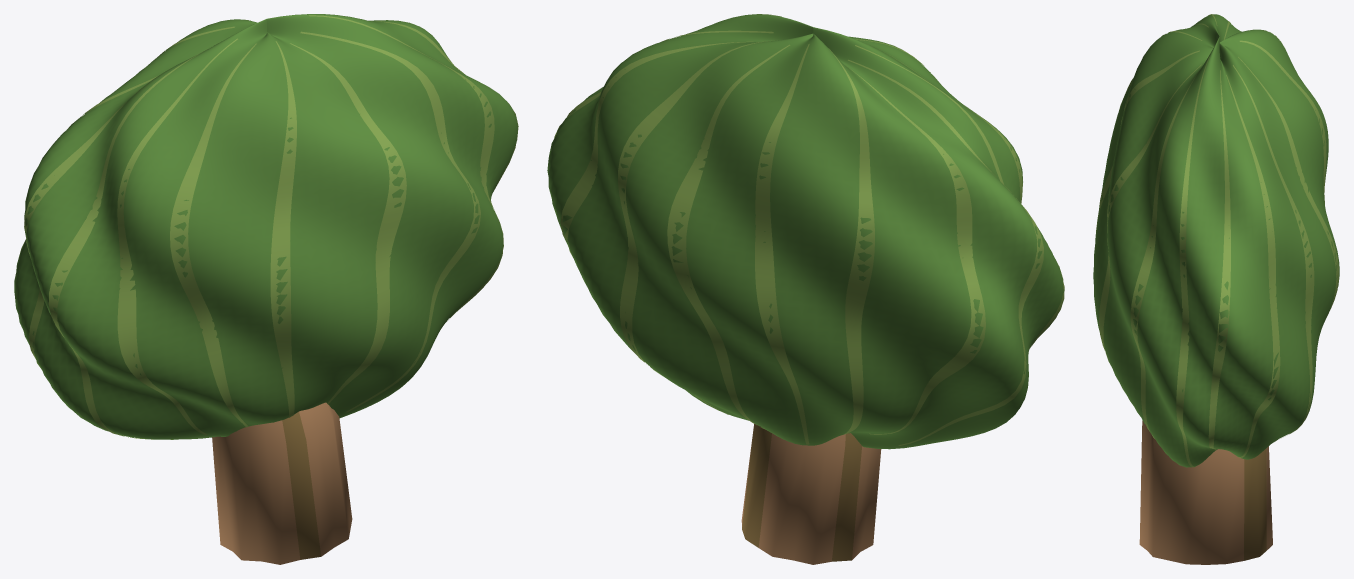
The model's file is 02_g18686_1_striped_tree.glb.
3 renders of one model, left to right at view 1: azimuth 30°, elevation 25°; view 2: azimuth 150°, elevation 25°; view 3: azimuth 270°, elevation 25°, orthographic. The views are drawn at different scales.
Visible parts, largest first — view 1: Broad green canopy, Tapered short patterned trunk, Long olive canopy marking.011, Long olive canopy marking.010, Long olive canopy marking.012, Long olive canopy marking.009, Long olive canopy marking.008, Long olive canopy marking.013, Long olive canopy marking.007, Long olive canopy marking.014; view 2: Broad green canopy, Tapered short patterned trunk, Long olive canopy marking.004, Long olive canopy marking.005, Long olive canopy marking.003, Long olive canopy marking.006, Long olive canopy marking.002, Long olive canopy marking.001, Long olive canopy marking.007, Long olive canopy marking.008; view 3: Broad green canopy, Tapered short patterned trunk, Long olive canopy marking, Long olive canopy marking.014, Long olive canopy marking.001, Long olive canopy marking.013, Long olive canopy marking.002, Long olive canopy marking.012, Long olive canopy marking.003, Long olive canopy marking.004, Long olive canopy marking.011.
Boxes of the visible parts, left/top/right/bottom form: Broad green canopy: left=14, top=14, right=517, bottom=439; Tapered short patterned trunk: left=212, top=402, right=352, bottom=564; Long olive canopy marking.011: left=270, top=41, right=296, bottom=417; Long olive canopy marking.010: left=170, top=43, right=256, bottom=427; Long olive canopy marking.012: left=290, top=43, right=406, bottom=404; Long olive canopy marking.009: left=117, top=38, right=237, bottom=435; Long olive canopy marking.008: left=48, top=43, right=218, bottom=439; Long olive canopy marking.013: left=300, top=31, right=480, bottom=412; Long olive canopy marking.007: left=24, top=82, right=149, bottom=367; Long olive canopy marking.014: left=309, top=15, right=503, bottom=321; Broad green canopy: left=547, top=14, right=1064, bottom=449; Tapered short patterned trunk: left=741, top=424, right=881, bottom=564; Long olive canopy marking.004: left=755, top=44, right=809, bottom=444; Long olive canopy marking.005: left=829, top=49, right=874, bottom=434; Long olive canopy marking.003: left=667, top=44, right=790, bottom=428; Long olive canopy marking.006: left=846, top=66, right=985, bottom=434; Long olive canopy marking.002: left=618, top=40, right=774, bottom=414; Long olive canopy marking.001: left=560, top=41, right=753, bottom=256; Long olive canopy marking.007: left=848, top=59, right=1043, bottom=445; Long olive canopy marking.008: left=855, top=45, right=1064, bottom=347; Broad green canopy: left=1093, top=14, right=1339, bottom=467; Tapered short patterned trunk: left=1139, top=420, right=1272, bottom=564; Long olive canopy marking: left=1208, top=70, right=1230, bottom=450; Long olive canopy marking.014: left=1176, top=56, right=1209, bottom=467; Long olive canopy marking.001: left=1226, top=75, right=1280, bottom=457; Long olive canopy marking.013: left=1130, top=75, right=1196, bottom=438; Long olive canopy marking.002: left=1233, top=65, right=1314, bottom=441; Long olive canopy marking.012: left=1099, top=64, right=1201, bottom=364; Long olive canopy marking.003: left=1238, top=57, right=1338, bottom=322; Long olive canopy marking.004: left=1239, top=40, right=1326, bottom=204; Long olive canopy marking.011: left=1096, top=50, right=1199, bottom=231.
Bounding box in the file's own units: 4.31 × 4.35 × 1.91.
